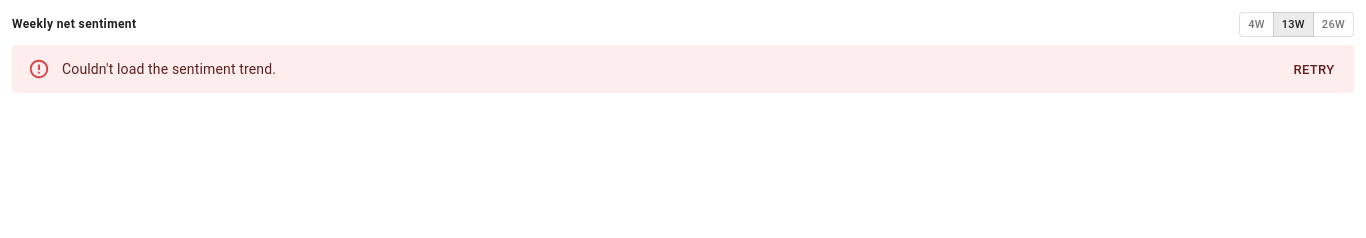
Scenario: SentimentTrendChart › shows an error whose Retry recovers
Expected: the text "Couldn't load the sentiment trend." is shown, left=62, top=61, right=276, bottom=77
Click the button "Retry".
click(1314, 71)  # box left=1282, top=55, right=1346, bottom=86
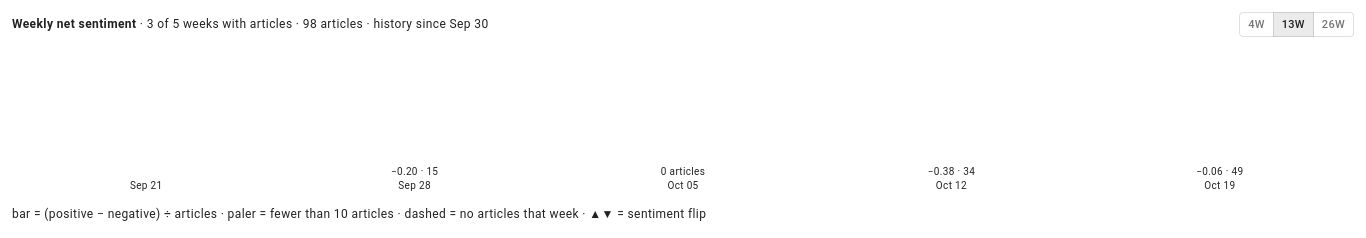
Now the picture with test id "sentiment-trend-chart" is shown, box left=130, top=166, right=1244, bottom=191
